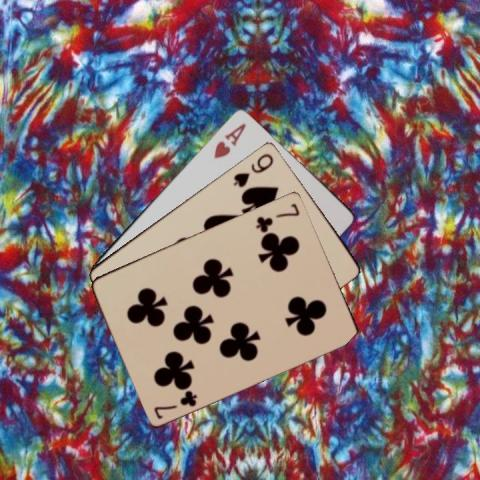7c: (150, 387, 198, 420), (253, 200, 301, 232)
9s: (230, 150, 275, 189)
Ah: (211, 119, 248, 160)
